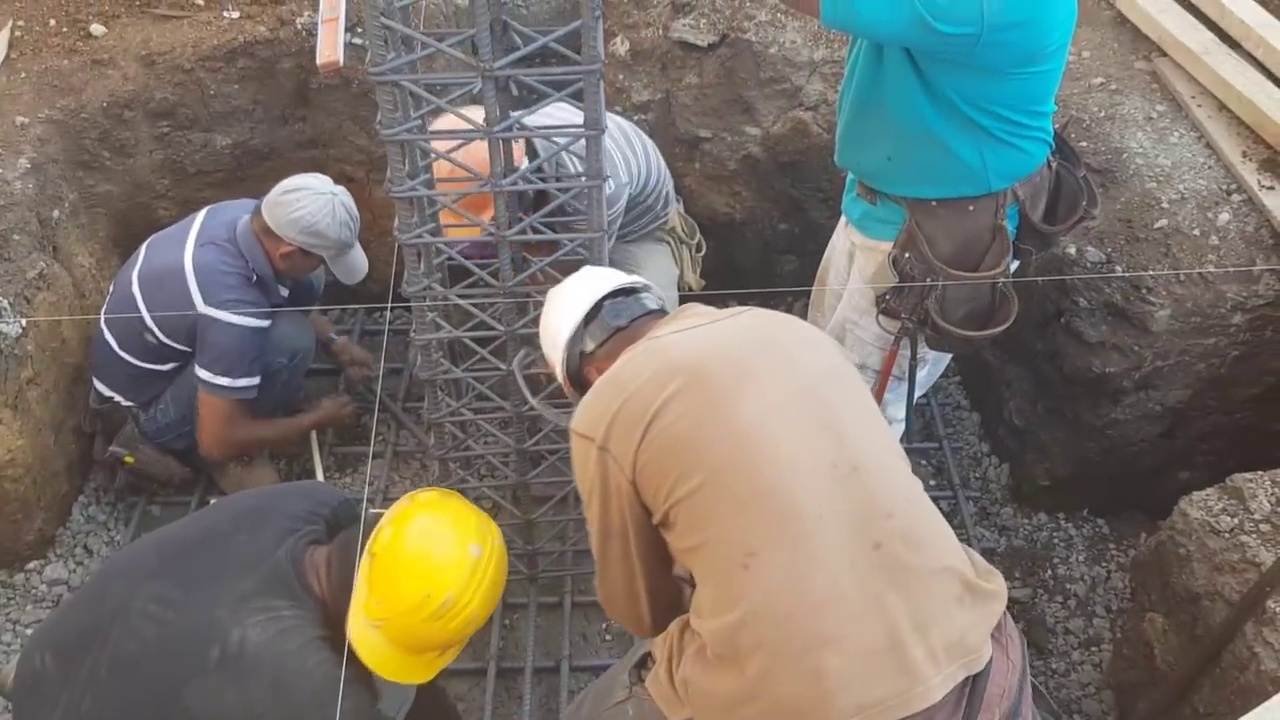helmet: (344, 490, 499, 682), (538, 257, 658, 391), (424, 94, 529, 244)
helmet-off: (248, 175, 365, 287)
helmet-on: (295, 480, 511, 694), (538, 254, 684, 413), (423, 96, 564, 246)
person: (536, 255, 1053, 720), (788, 0, 1087, 380), (17, 478, 461, 720), (102, 165, 407, 508), (424, 88, 708, 310)
